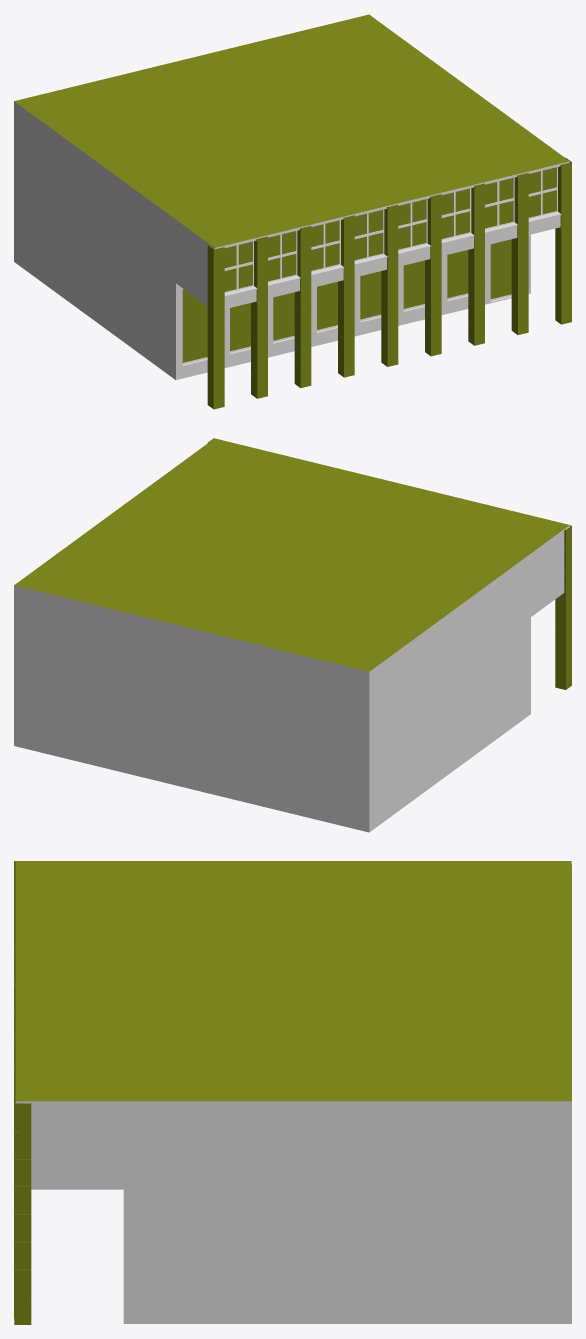
File: 办公区3.glb
3 views of the same model, one above another, from view 1: azimuth 30°, elevation 25°; view 2: azimuth 150°, elevation 25°; view 3: azimuth 270°, elevation 25° (orthographic). The views are drawn at different scales.
Visible parts, largest first — view 1: building.004; view 2: building.004; view 3: building.004.
Part boxes in pixels (x1,y1,x2,y2): building.004: (14, 14, 571, 409); building.004: (14, 438, 571, 832); building.004: (14, 861, 571, 1324).
Size of the model in its own units: 4.9 by 2.1 by 4.77.
